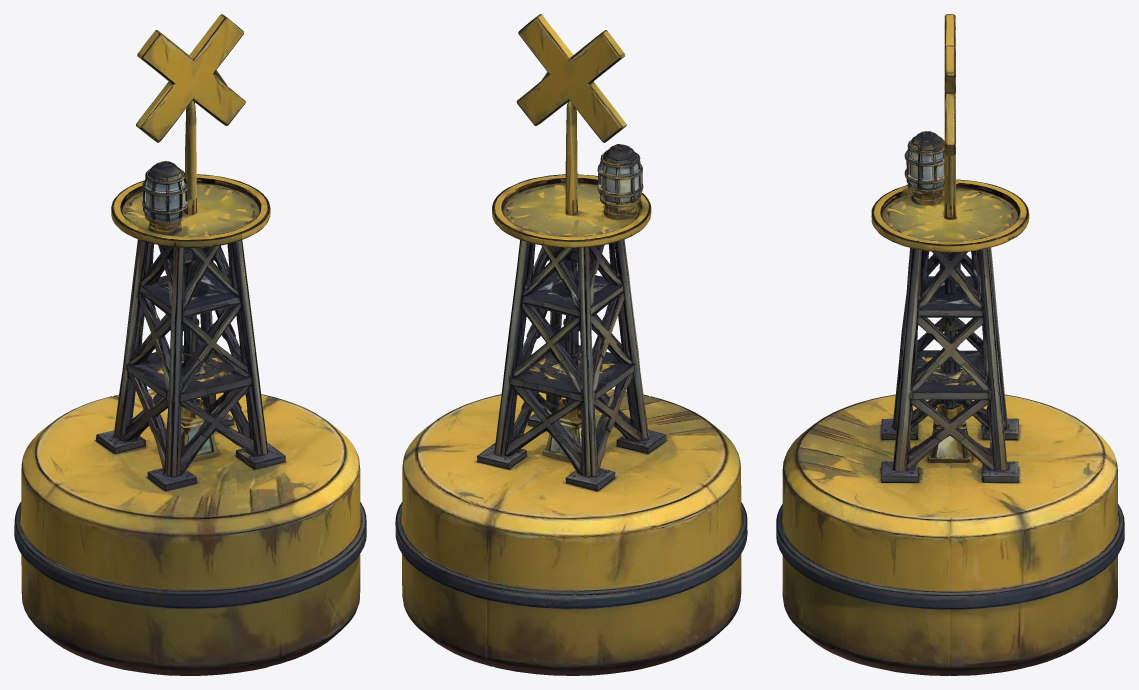
Rendered from buoy.glb.
3 renders of one model, left to right at view 1: azimuth 30°, elevation 25°; view 2: azimuth 150°, elevation 25°; view 3: azimuth 270°, elevation 25°, orthographic.
Bounding box in the file's own units: 1.03 × 1.9 × 1.03.
Materials: 1 (1 with a texture image).
